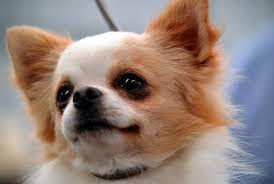chihuahua: (3, 2, 245, 184)
